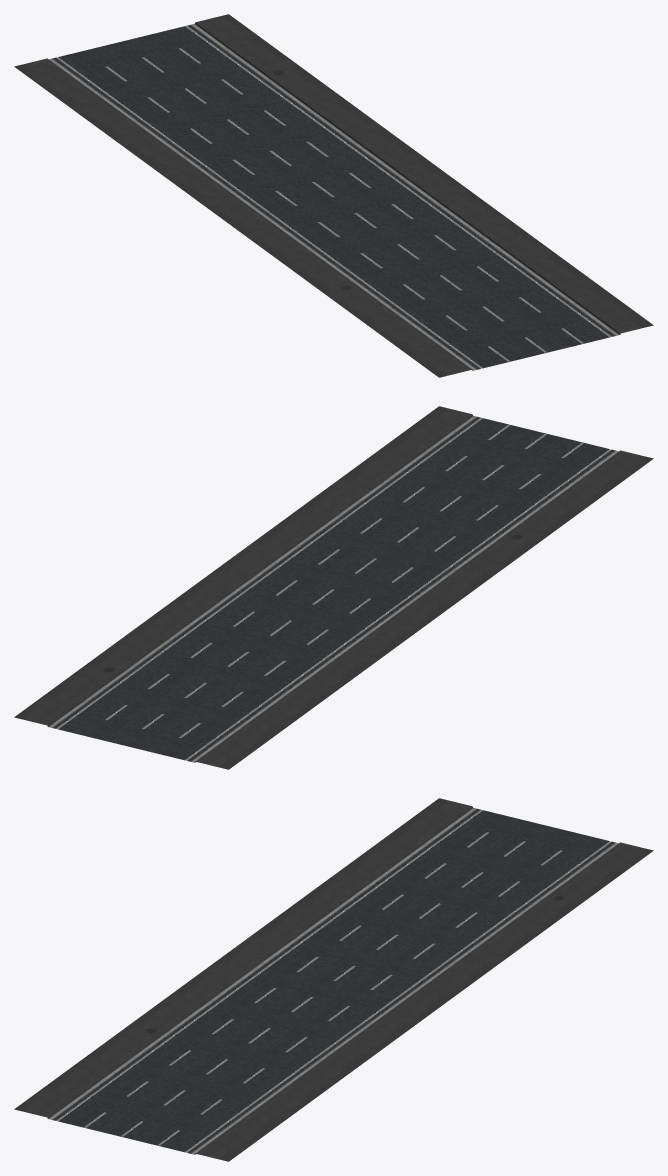
File: city_road_4ways.fbx
3 renders of one model, top to bottom at view 1: azimuth 30°, elevation 25°; view 2: azimuth 150°, elevation 25°; view 3: azimuth 330°, elevation 25°, orthographic.
Parts seen in each view (by area): view 1: obj0; view 2: obj0; view 3: obj0.
Part boxes in pixels (x1=…): obj0: x1=14, y1=14, x2=653, y2=377; obj0: x1=14, y1=406, x2=653, y2=769; obj0: x1=14, y1=798, x2=653, y2=1161.
Size of the model in its own units: 44.45 by 0.254 by 152.
